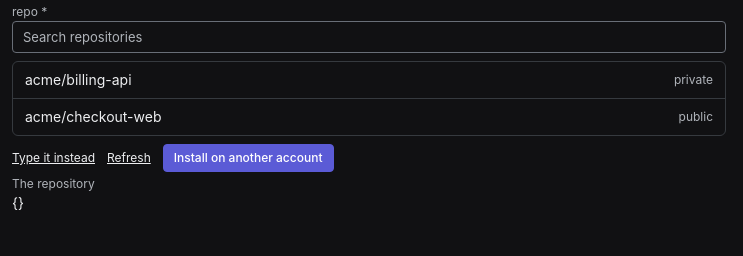
Scenario: a repository field with format github-repo (S40-04c) › is rendered by the schema form as a picker, and picking sets owner/repo
The image size is (743, 256).
What coordinates should you click on to do the following:
click the button "acme/checkout-web public"
I would click on:
 (93, 116)
Its box is [13,99,725,135].
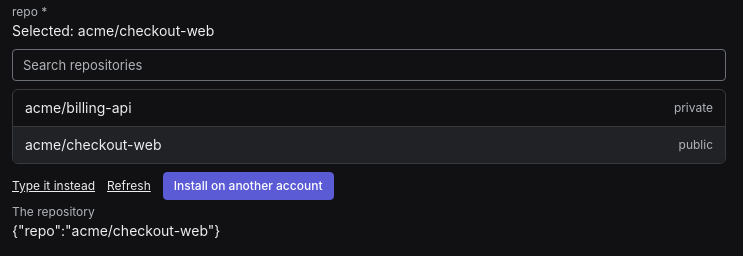
Check: the text with test id "value" reads "{\"repo\":\"acme/checkout-web\"}", box [12,222,220,239]
